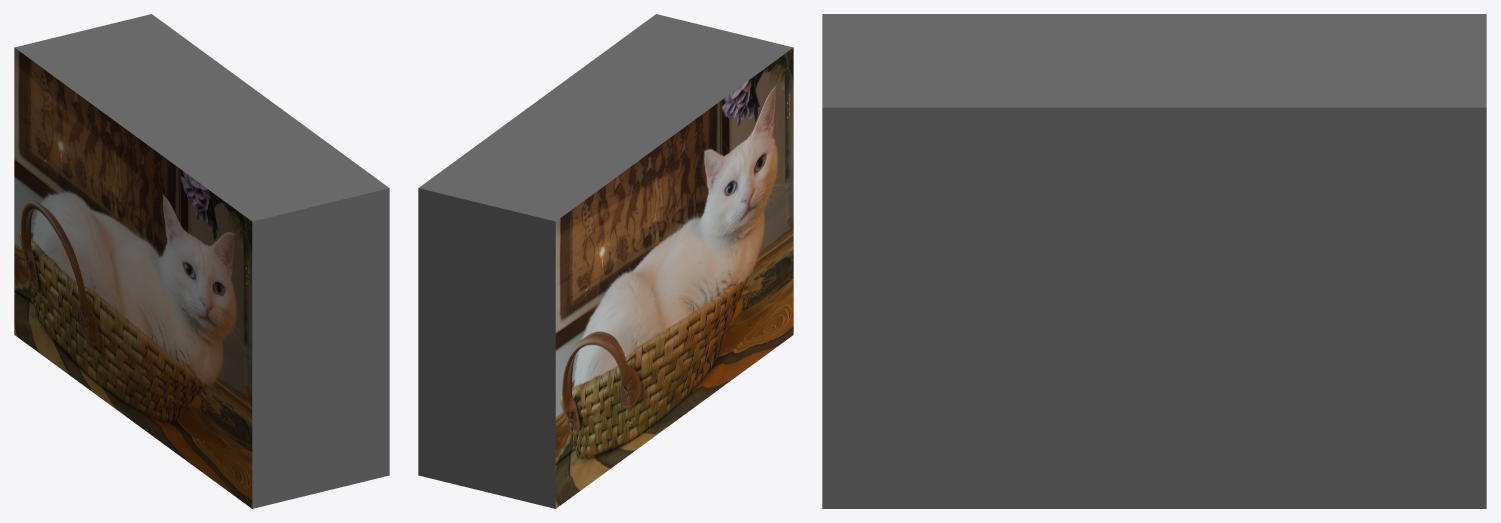
File: 2x3puzzle.fbx
3 renders of one model, left to right at view 1: azimuth 30°, elevation 25°; view 2: azimuth 150°, elevation 25°; view 3: azimuth 270°, elevation 25°, orthographic. The views are drawn at different scales.
Parts seen in each view (by area): view 1: piece2.016, piece2.015, piece3.006, piece4.006, piece2.014, piece1.003; view 2: piece3.006, piece1.003, piece2.016, piece4.006, piece2.014, piece2.015; view 3: piece4.006, piece2.016, piece3.006, piece2.014, piece1.003, piece2.015.
Part boxes in pixels (left/top/right/bottom): piece2.016: left=173, top=130, right=389, bottom=365; piece2.015: left=173, top=307, right=389, bottom=508; piece3.006: left=14, top=14, right=230, bottom=248; piece4.006: left=93, top=72, right=309, bottom=306; piece2.014: left=93, top=249, right=172, bottom=450; piece1.003: left=14, top=191, right=93, bottom=392; piece3.006: left=418, top=130, right=634, bottom=365; piece1.003: left=418, top=307, right=634, bottom=508; piece2.016: left=577, top=14, right=793, bottom=248; piece4.006: left=498, top=72, right=714, bottom=306; piece2.014: left=635, top=249, right=714, bottom=450; piece2.015: left=714, top=191, right=793, bottom=392; piece4.006: left=1043, top=14, right=1265, bottom=308; piece2.016: left=822, top=14, right=1043, bottom=308; piece3.006: left=1265, top=14, right=1486, bottom=308; piece2.014: left=1043, top=308, right=1265, bottom=508; piece1.003: left=1265, top=308, right=1486, bottom=508; piece2.015: left=822, top=308, right=1043, bottom=508.
Size of the model in its own units: 800 by 1600 by 2400.
Materials: 2 (1 with a texture image).
